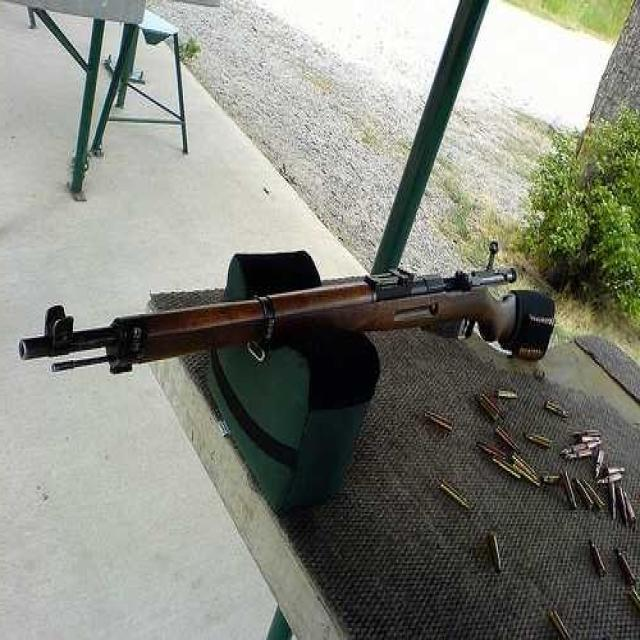heavyweapon: (8, 235, 562, 417)
